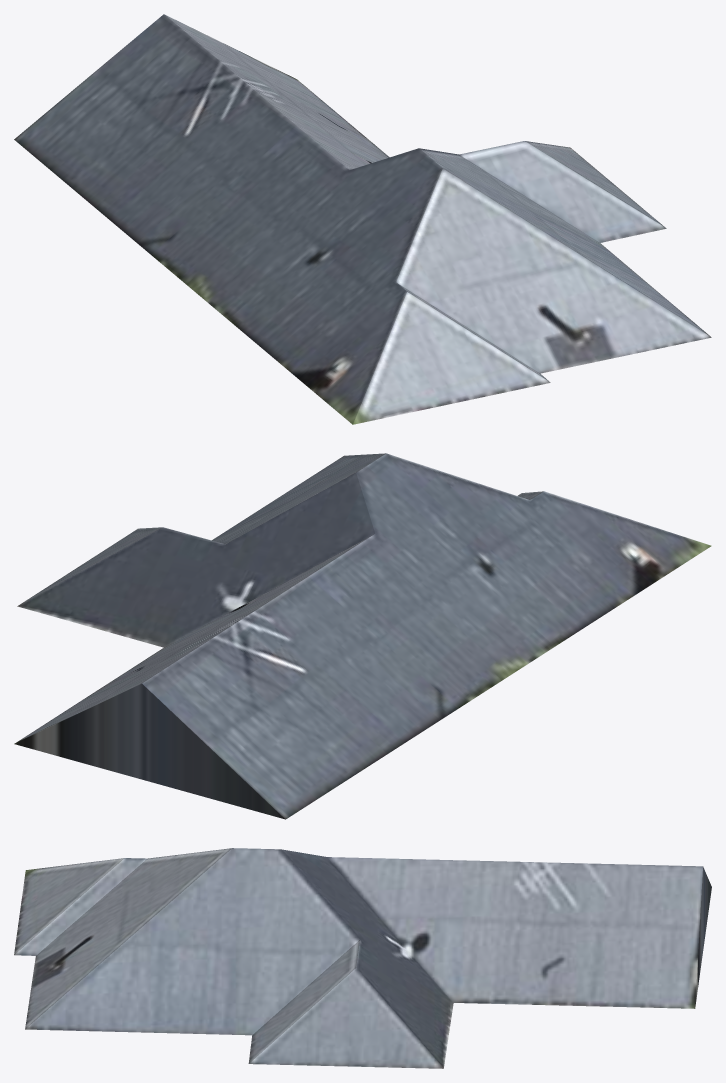
The model's file is CG10_500_039072_0026_roof.obj.
The picture shows the model from 3 angles, top to bottom: view 1: azimuth 30°, elevation 25°; view 2: azimuth 150°, elevation 25°; view 3: azimuth 270°, elevation 25°; orthographic projection. The views are drawn at different scales.
Parts seen in each view (by area): view 1: CG10_500_039072_0026_roof; view 2: CG10_500_039072_0026_roof; view 3: CG10_500_039072_0026_roof.
Part boxes in pixels (x1,y1,x2,y2): CG10_500_039072_0026_roof: (14, 14, 711, 424); CG10_500_039072_0026_roof: (14, 453, 711, 819); CG10_500_039072_0026_roof: (14, 848, 711, 1068).
Size of the model in its own units: 265 by 70 by 394.
Materials: 1 (1 with a texture image).
